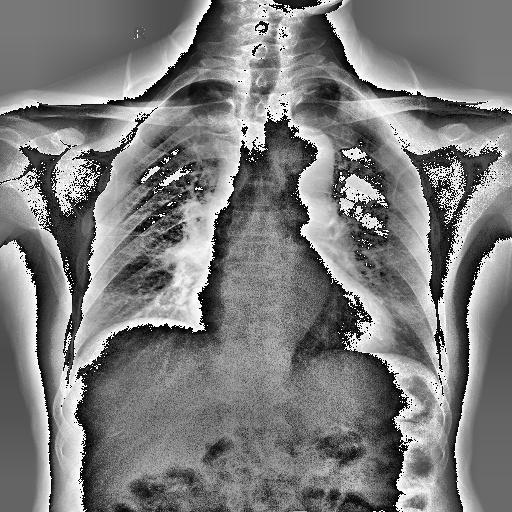0- Aortic enlargement: (271, 124, 335, 186), (268, 128, 336, 186), (272, 126, 335, 176)
3- Cardiomegaly: (184, 267, 396, 355), (188, 286, 396, 360), (188, 293, 395, 358)
